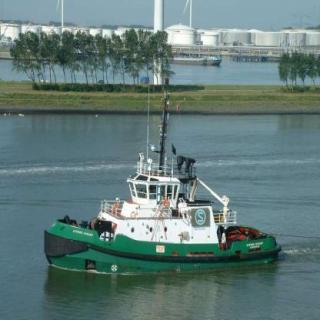Tug Boat: (43, 142, 275, 270)
